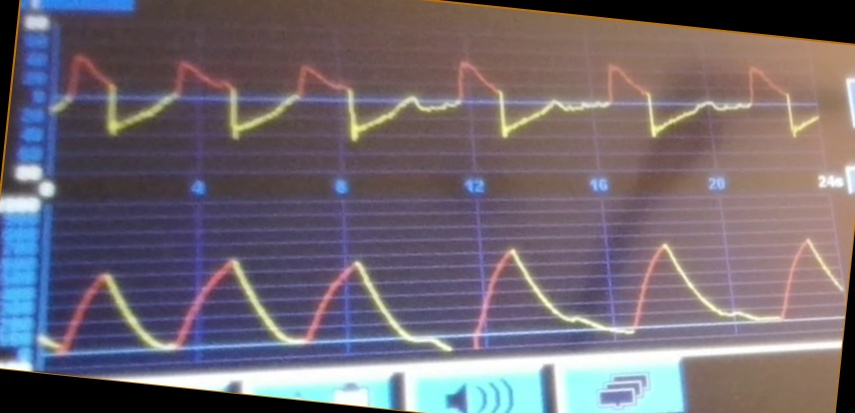Ineffective_effort Flow: (56, 38, 817, 158)
Ineffective_effort Volume: (44, 226, 843, 355)
